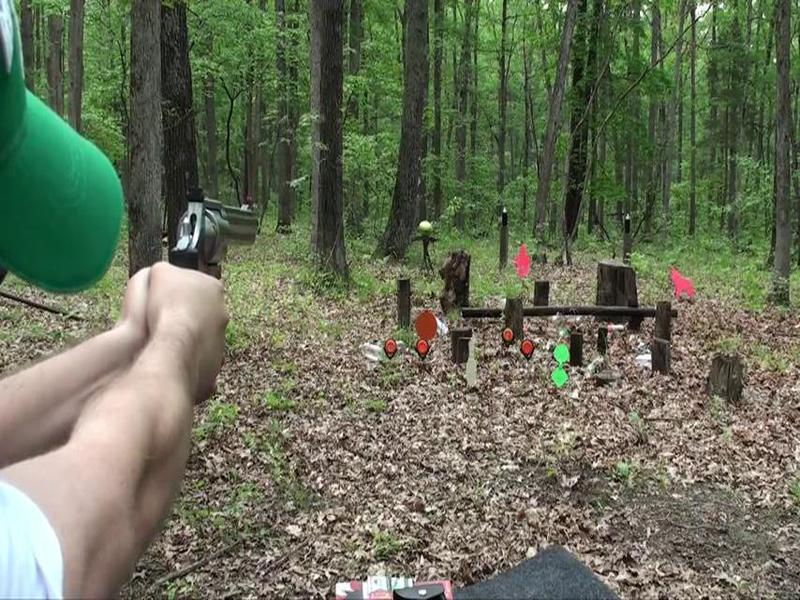Revolver: (145, 183, 273, 300)
